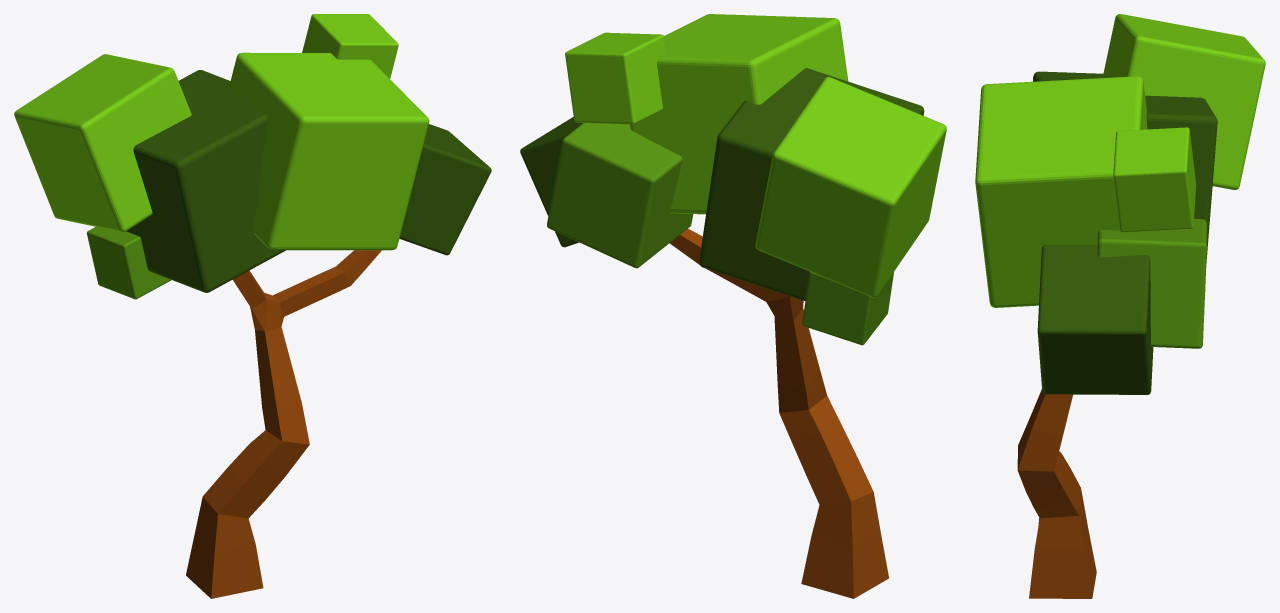
The model's file is Small Cube Tree.fbx.
3 views of the same model, side by side, from view 1: azimuth 30°, elevation 25°; view 2: azimuth 150°, elevation 25°; view 3: azimuth 270°, elevation 25° (orthographic). The views are drawn at different scales.
Visible parts, largest first — view 1: Cube; view 2: Cube; view 3: Cube.
Part boxes in pixels (<box>): Cube: <box>14,14,491,598</box>; Cube: <box>520,14,946,598</box>; Cube: <box>975,14,1265,598</box>.
Size of what is drawn, in the model's own units: 169 by 205 by 100.
